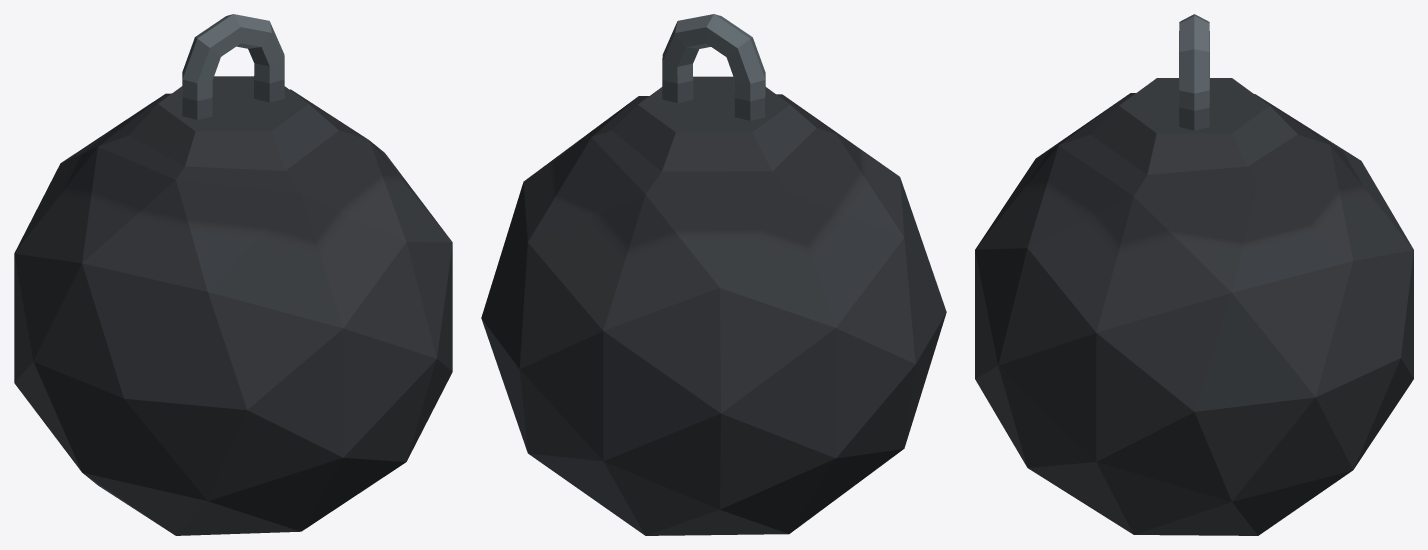
The model's file is SM_Prop_Cannonball_05.fbx.
The picture shows the model from 3 angles, left to right: view 1: azimuth 30°, elevation 25°; view 2: azimuth 150°, elevation 25°; view 3: azimuth 270°, elevation 25°; orthographic projection.
Visible parts, largest first — view 1: SM_Prop_Cannonball_05; view 2: SM_Prop_Cannonball_05; view 3: SM_Prop_Cannonball_05.
Part boxes in pixels (x1=…): SM_Prop_Cannonball_05: x1=14, y1=14, x2=452, y2=535; SM_Prop_Cannonball_05: x1=481, y1=14, x2=946, y2=535; SM_Prop_Cannonball_05: x1=975, y1=14, x2=1413, y2=535.
Bounding box in the file's own units: 20.59 × 24.99 × 19.59.
